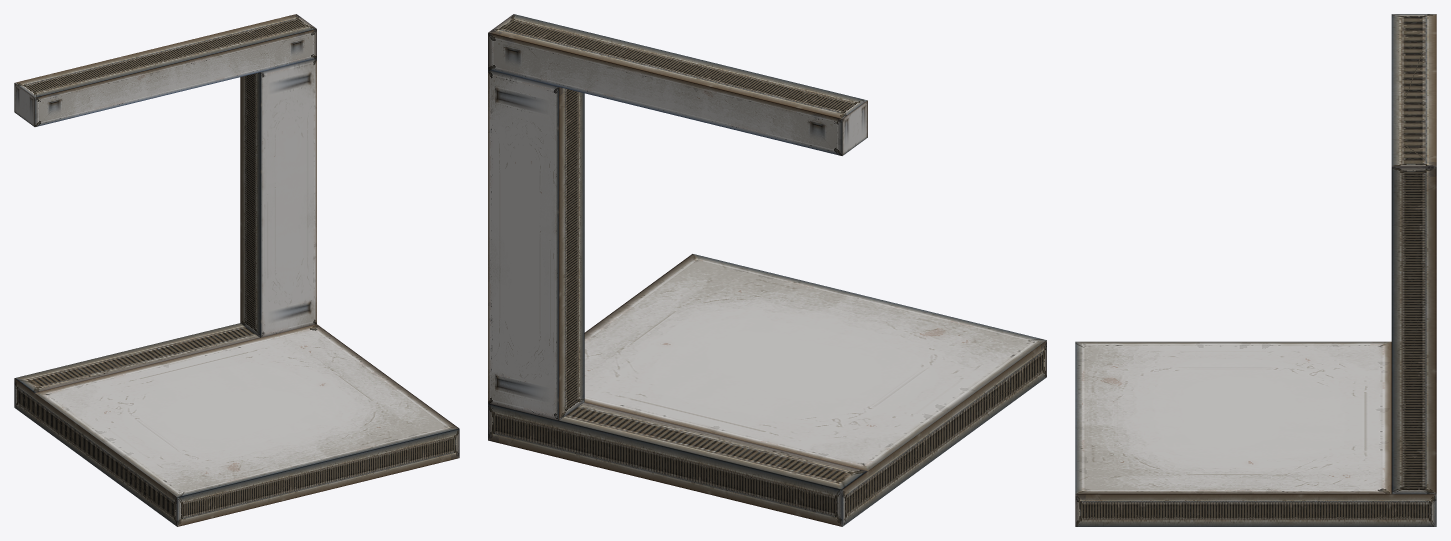
The model's file is scifi_floor_portal_small_R.FBX.
3 views of the same model, side by side, from view 1: azimuth 30°, elevation 25°; view 2: azimuth 150°, elevation 25°; view 3: azimuth 270°, elevation 25° (orthographic). The views are drawn at different scales.
Visible parts, largest first — view 1: Plane187; view 2: Plane187; view 3: Plane187.
Part boxes in pixels (x1,y1,x2,y2): Plane187: (14, 14, 459, 526); Plane187: (488, 14, 1046, 526); Plane187: (1075, 14, 1436, 526).
Bounding box in the file's own units: 254 × 279 × 254.
